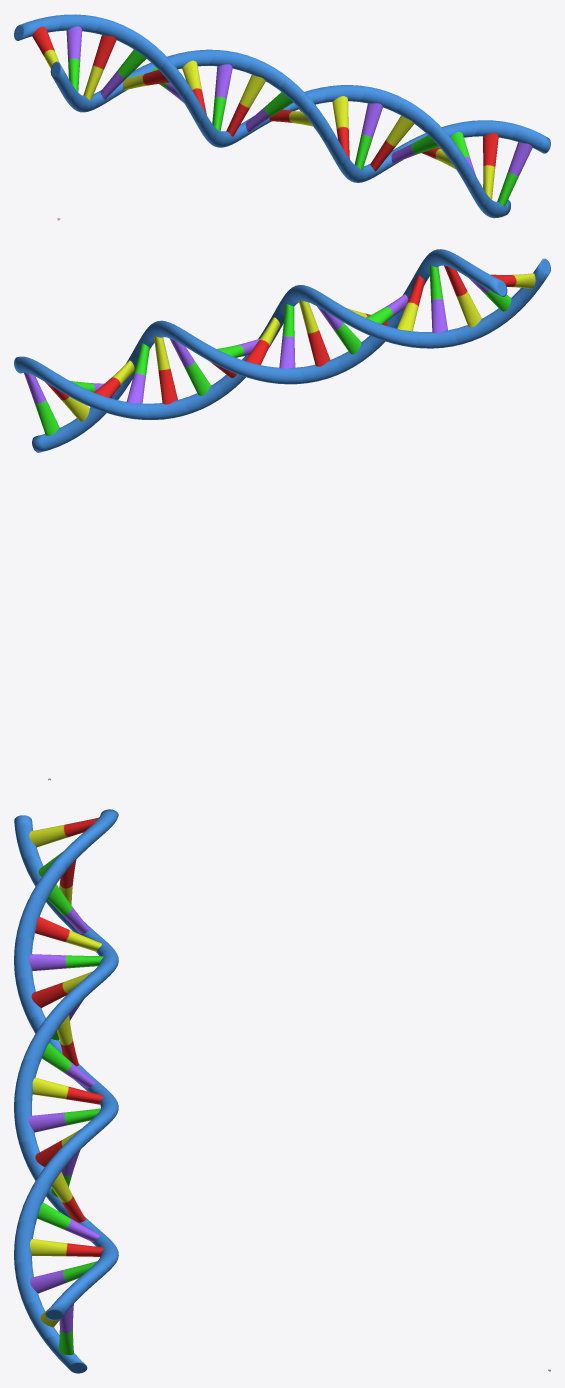
File: litmus3.glb
3 renders of one model, top to bottom at view 1: azimuth 30°, elevation 25°; view 2: azimuth 150°, elevation 25°; view 3: azimuth 270°, elevation 25°, orthographic. The views are drawn at different scales.
Parts seen in each view (by area): view 1: DNA; view 2: DNA; view 3: DNA.
Part boxes in pixels (left/top/right/bottom): DNA: left=14, top=14, right=550, bottom=218; DNA: left=14, top=249, right=550, bottom=452; DNA: left=14, top=809, right=118, bottom=1373.
Size of the model in its own units: 3772 by 2871 by 3170.
Materials: 36 (6 with a texture image).
